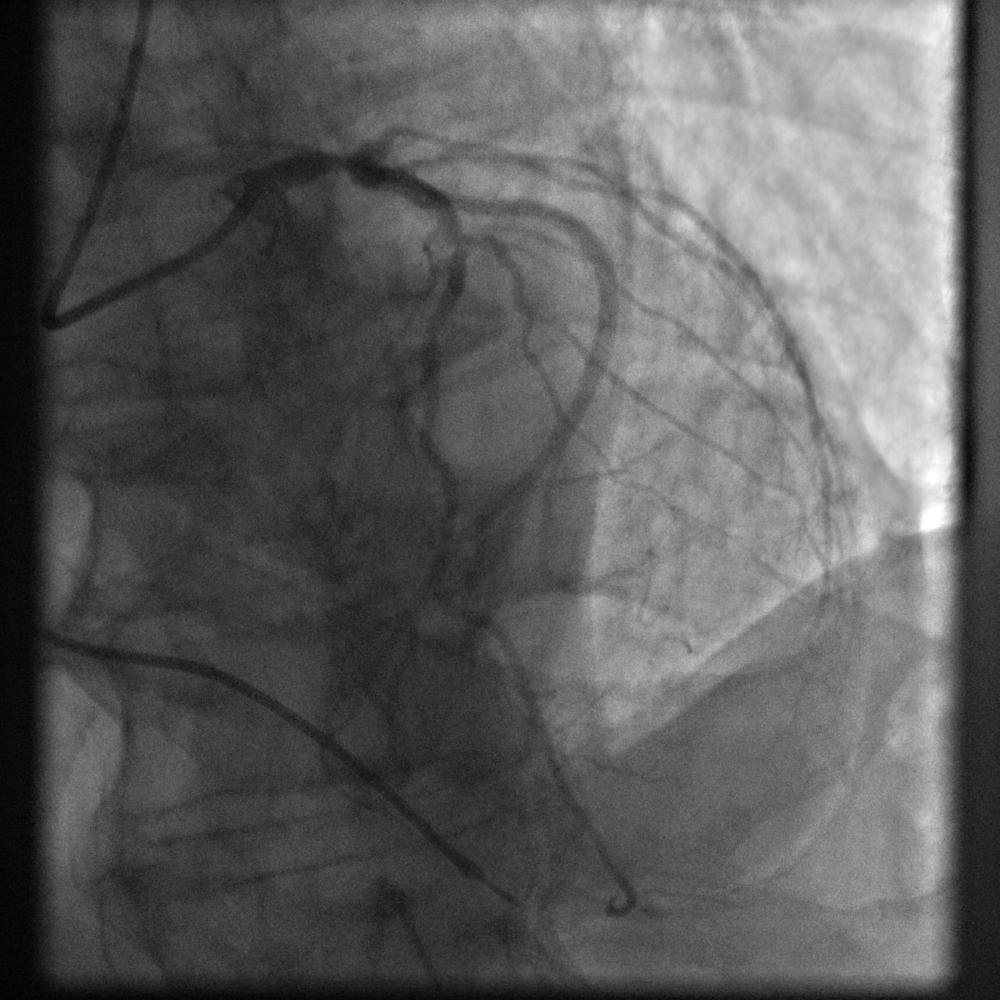Stenosis: (437, 211, 499, 270)
